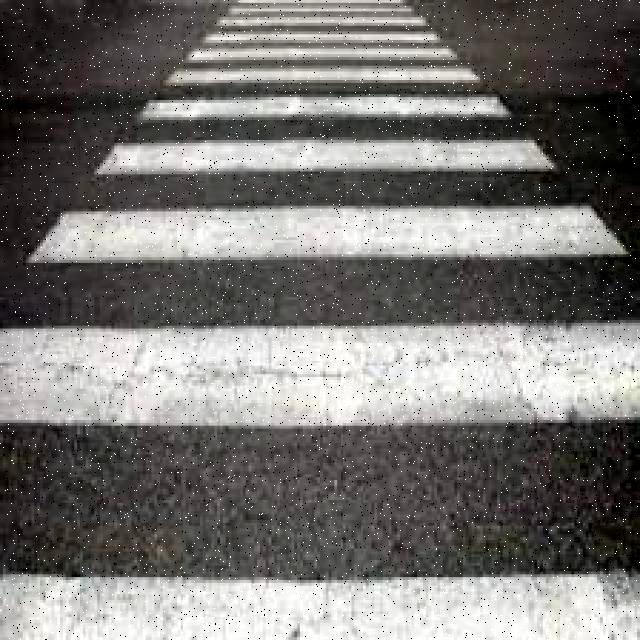crosswalk: (0, 0, 639, 470)
